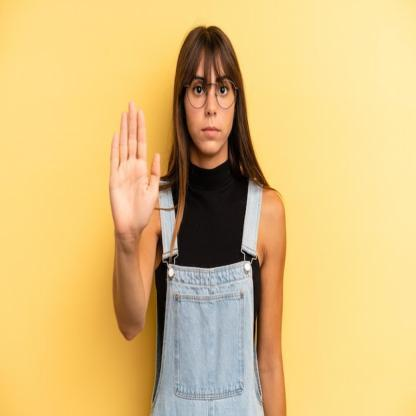stop: (108, 96, 162, 240)
